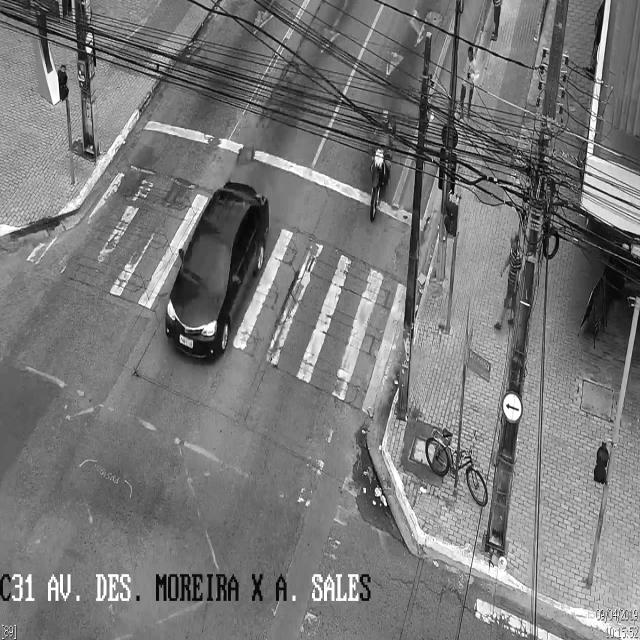Car: (166, 180, 269, 361)
Motorcycle: (368, 115, 394, 223)
